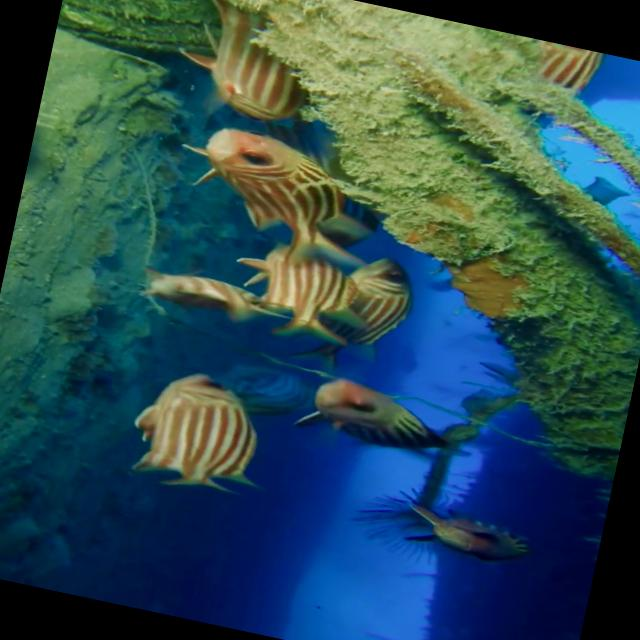Asker Baligi: (146, 95, 392, 269), (223, 224, 444, 378), (120, 360, 282, 504), (270, 354, 463, 472)
